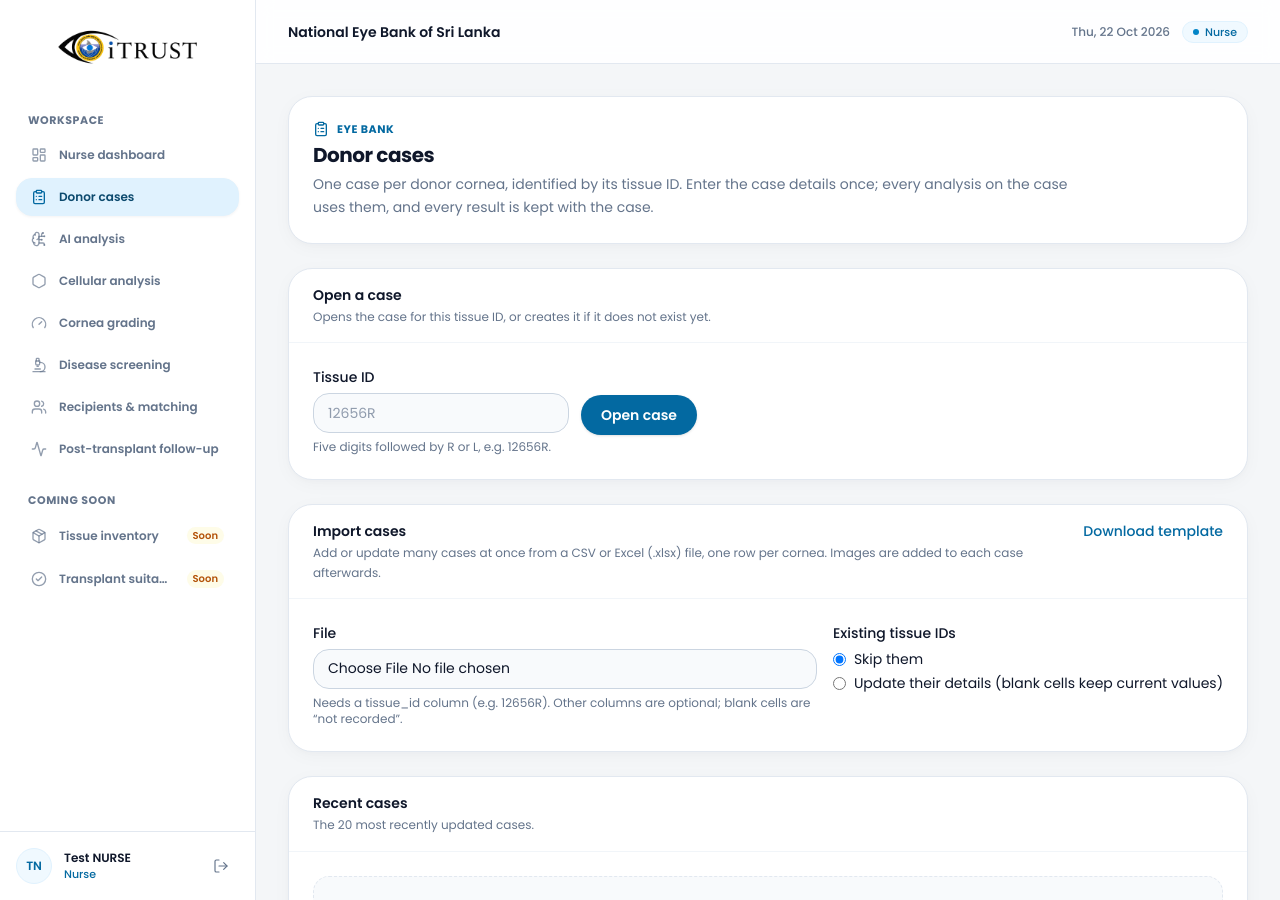
Donor cases › checks the tissue ID format before opening a case
The image size is (1280, 900).
Type "CASE-1" into the field labelled "Tissue ID" at (441,413), box [313,393,569,433]
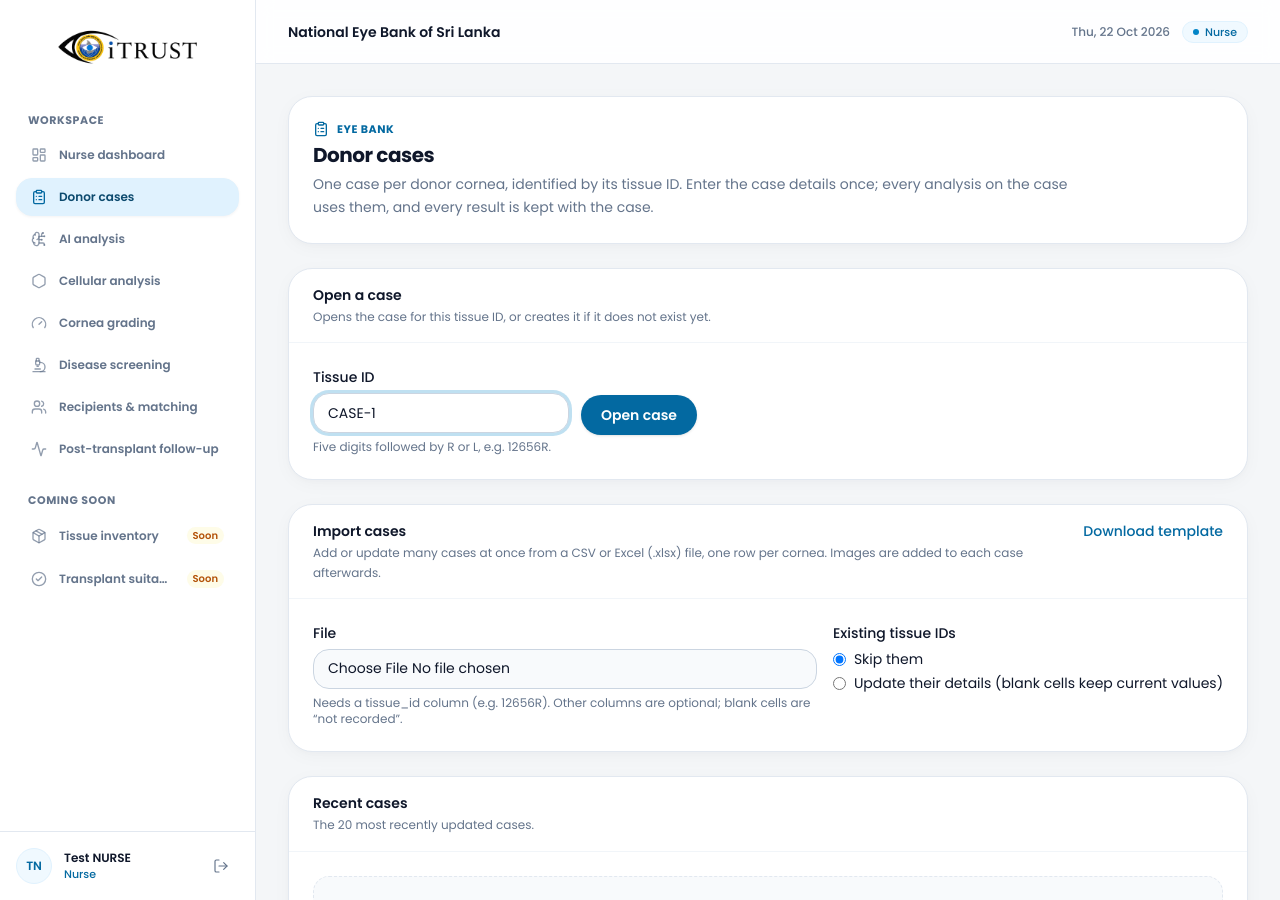
Click the button "Open case" at (639,415), box [581,395,697,435]
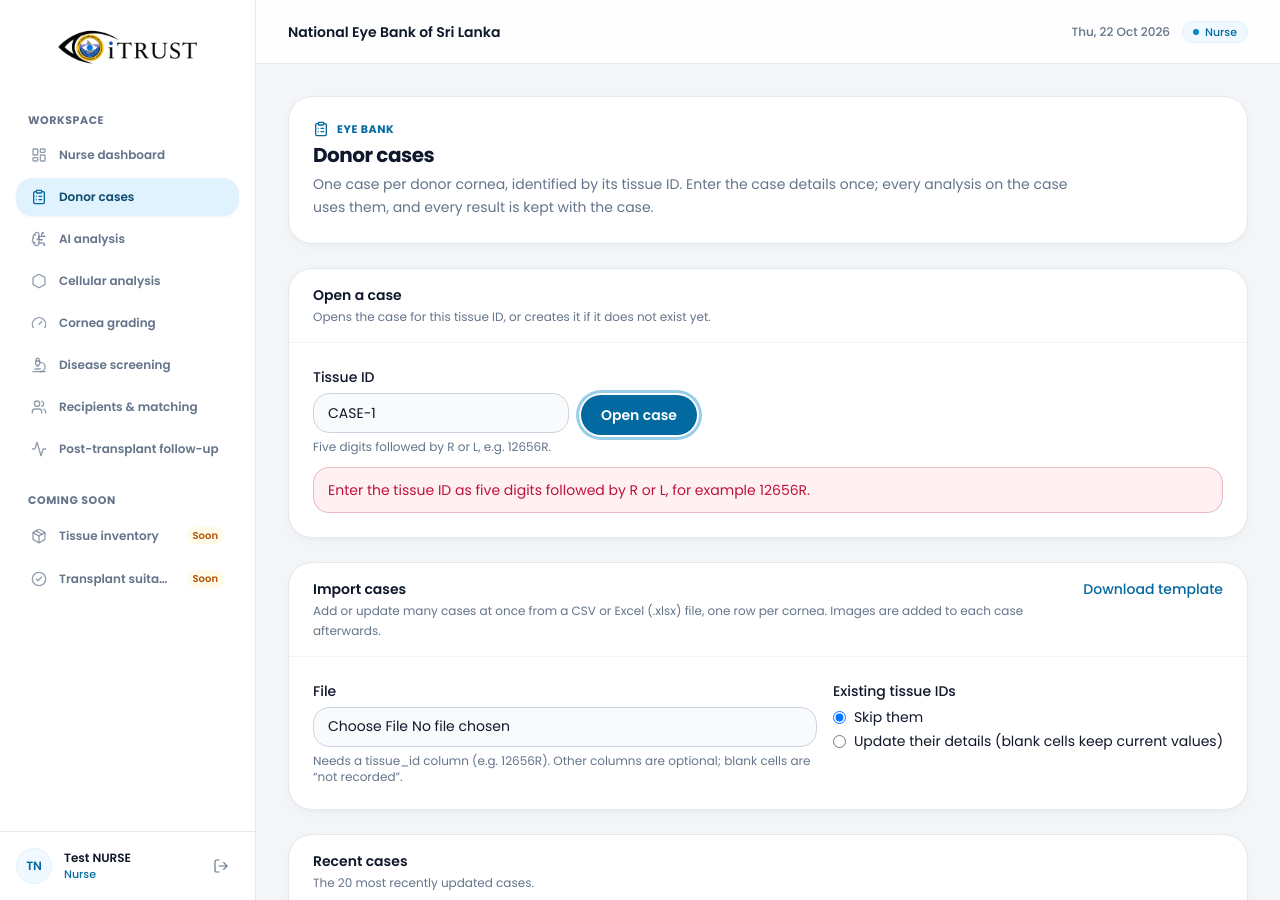
Check: the message shows "five digits followed by R or L", box [328,480,810,500]
